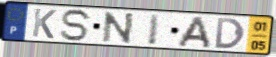A: (175, 15, 213, 50)
D: (214, 16, 247, 50)
I: (146, 13, 162, 47)
K: (30, 7, 58, 40)
N: (102, 11, 137, 45)
S: (59, 8, 94, 43)
